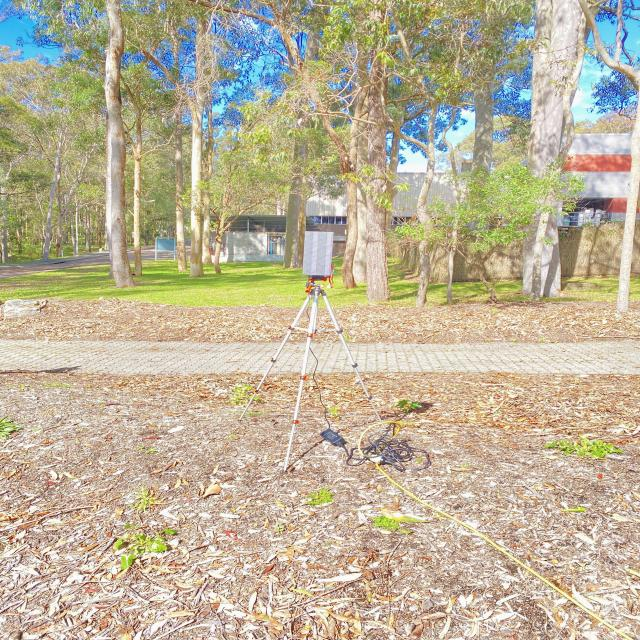matrix: (300, 230, 338, 282)
